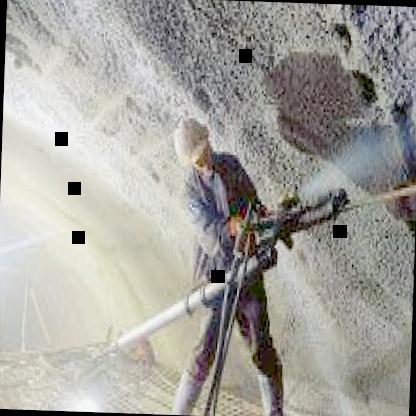helmet: (170, 115, 218, 178)
